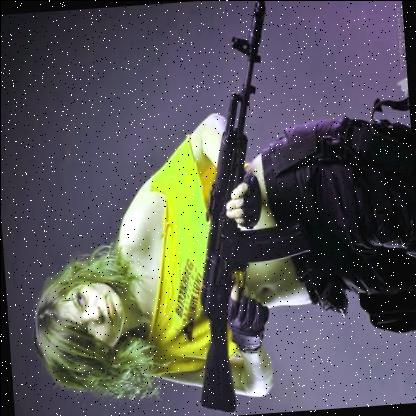rifle: (148, 0, 330, 416)
